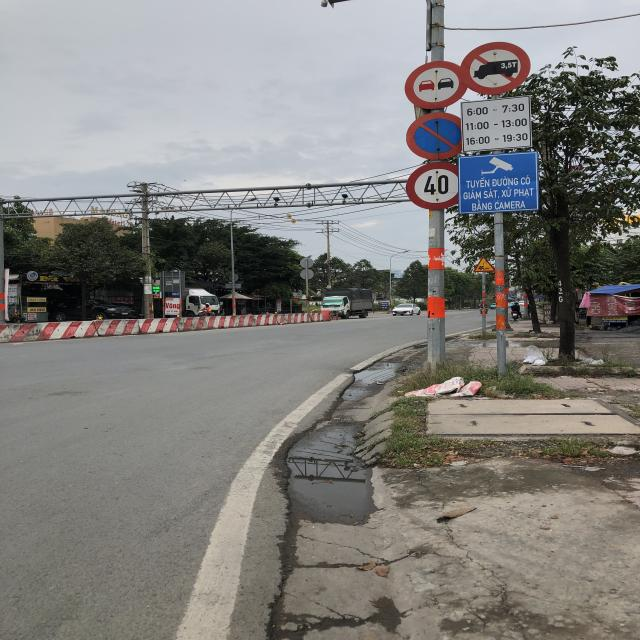Bien bao cam vuot: (403, 58, 466, 110)
